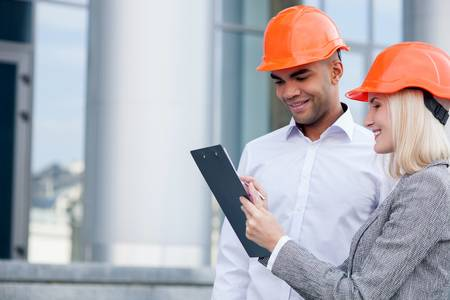casco: (344, 40, 450, 103), (255, 4, 351, 73)
